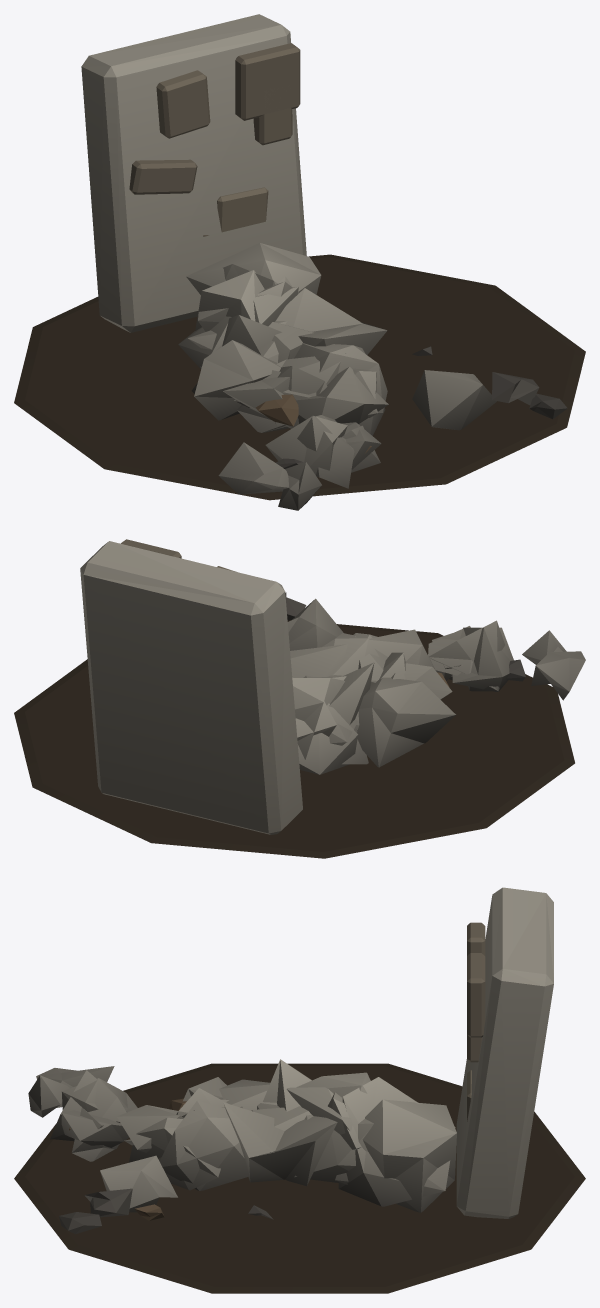
File: rockfall-debris.glb
3 views of the same model, one above another, from view 1: azimuth 30°, elevation 25°; view 2: azimuth 150°, elevation 25°; view 3: azimuth 270°, elevation 25° (orthographic). The views are drawn at different scales.
Parts seen in each view (by area): view 1: rockfall_debris; view 2: rockfall_debris; view 3: rockfall_debris.
Boxes of the visible parts, x1,y1,x2,y2 form: rockfall_debris: (14, 14, 585, 510); rockfall_debris: (14, 539, 585, 858); rockfall_debris: (14, 887, 585, 1293).
Bounding box in the file's own units: 2.97 × 1.52 × 3.12.
